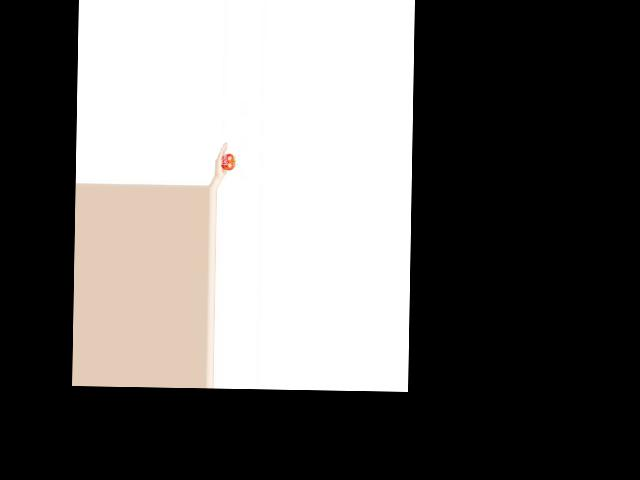tomato: (221, 153, 235, 170)
